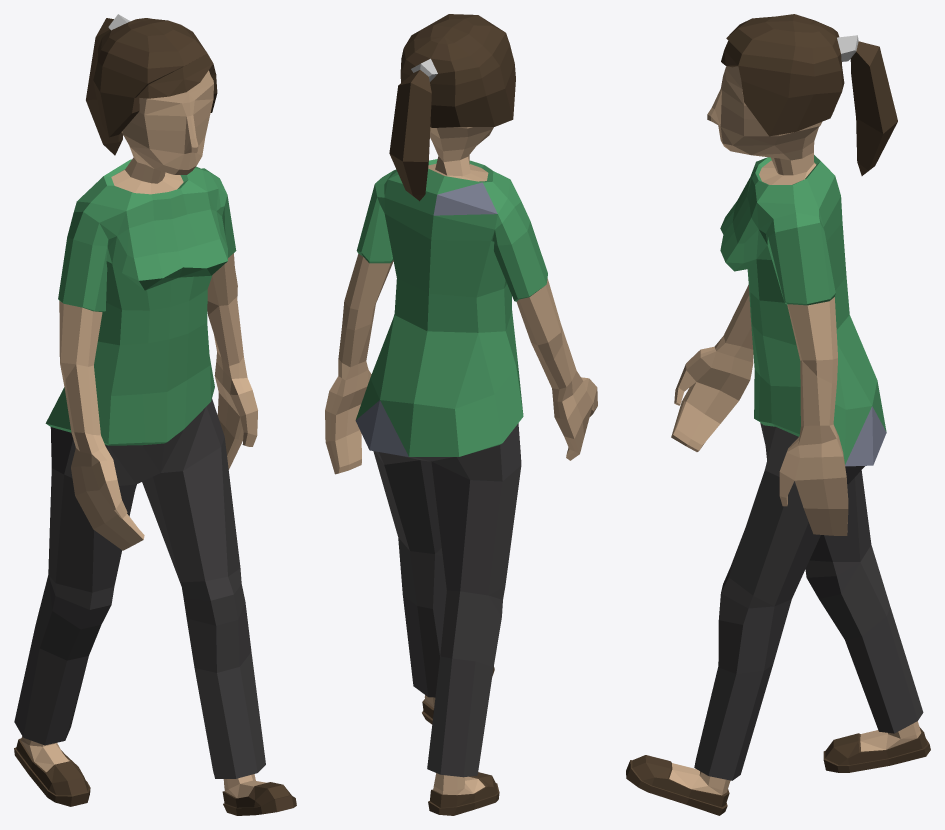
The model's file is 51 People_female_2.fbx.
3 renders of one model, left to right at view 1: azimuth 30°, elevation 25°; view 2: azimuth 150°, elevation 25°; view 3: azimuth 270°, elevation 25°, orthographic. The views are drawn at different scales.
Parts seen in each view (by area): view 1: Female_Hairstyle_8; view 2: Female_Hairstyle_8; view 3: Female_Hairstyle_8.
Boxes of the visible parts, bbox=[...] form: Female_Hairstyle_8: bbox=[14, 14, 296, 815]; Female_Hairstyle_8: bbox=[325, 14, 597, 815]; Female_Hairstyle_8: bbox=[626, 14, 930, 815].
Bounding box in the file's own units: 10.28 × 36.69 × 13.13.
